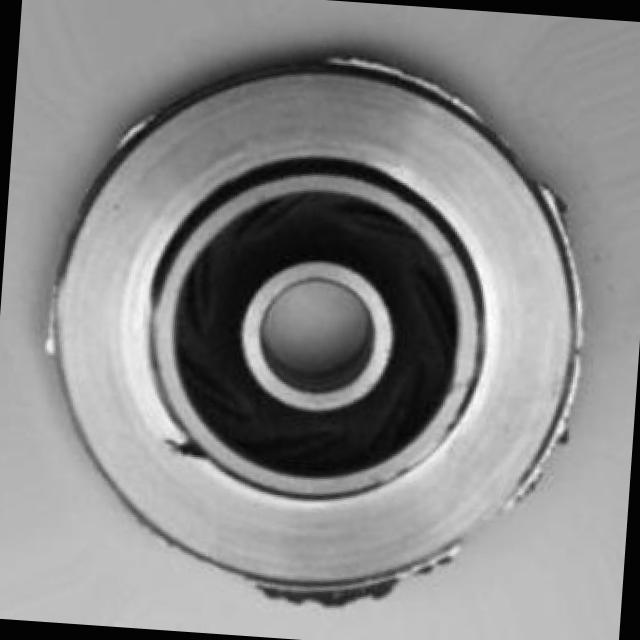Defect: (156, 428, 225, 474)
